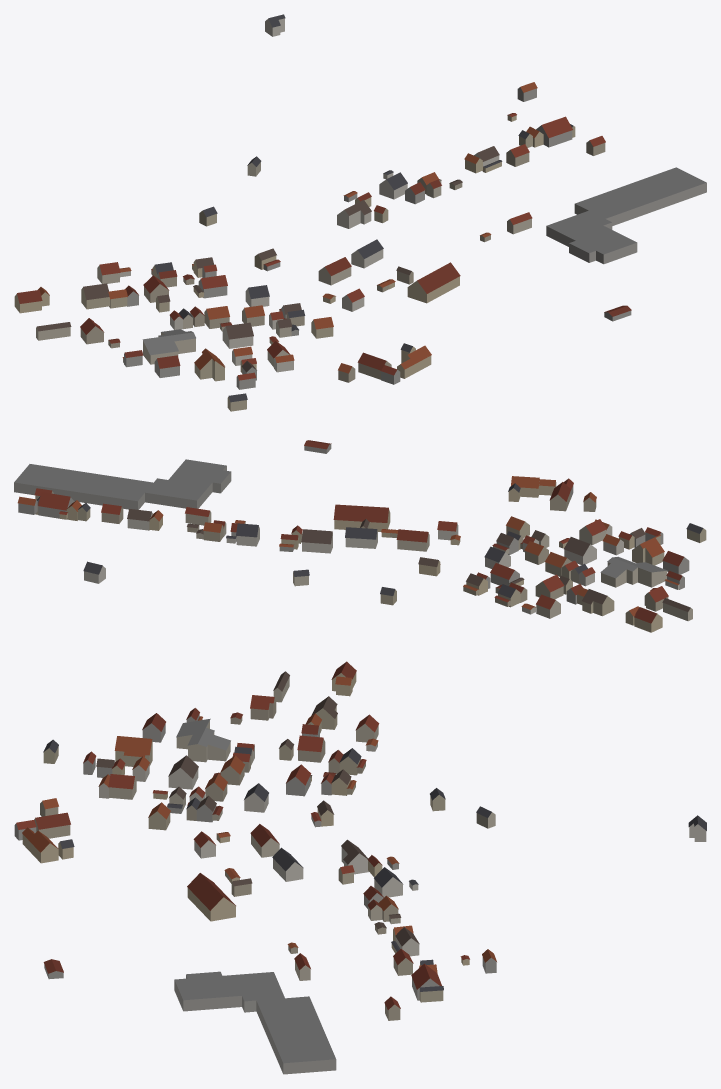
The picture shows the model from 3 angles, top to bottom: view 1: azimuth 30°, elevation 25°; view 2: azimuth 150°, elevation 25°; view 3: azimuth 270°, elevation 25°; orthographic projection. The views are drawn at different scales.
Parts seen in each view (by area): view 1: buildings; view 2: buildings; view 3: buildings.
Part boxes in pixels (x1,y1,x2,y2): buildings: (14, 14, 706, 411); buildings: (14, 440, 706, 632); buildings: (14, 661, 706, 1074).
Size of the model in its own units: 427 by 64.99 by 337.
